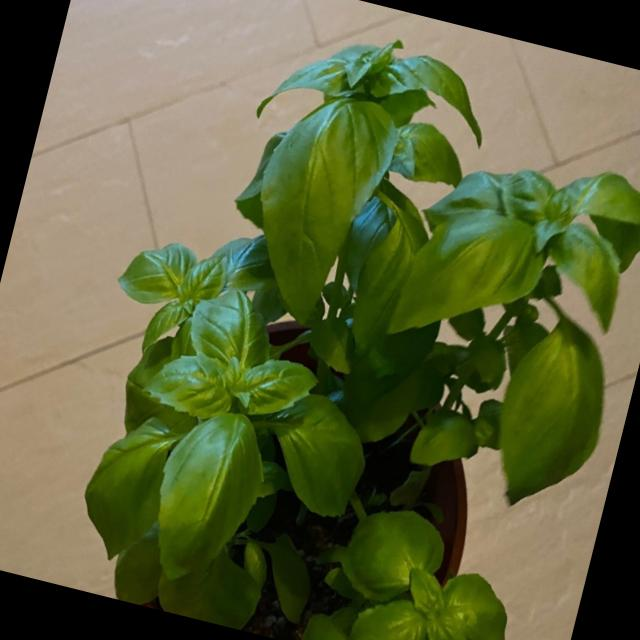Sweet Basil: (64, 0, 640, 640)
